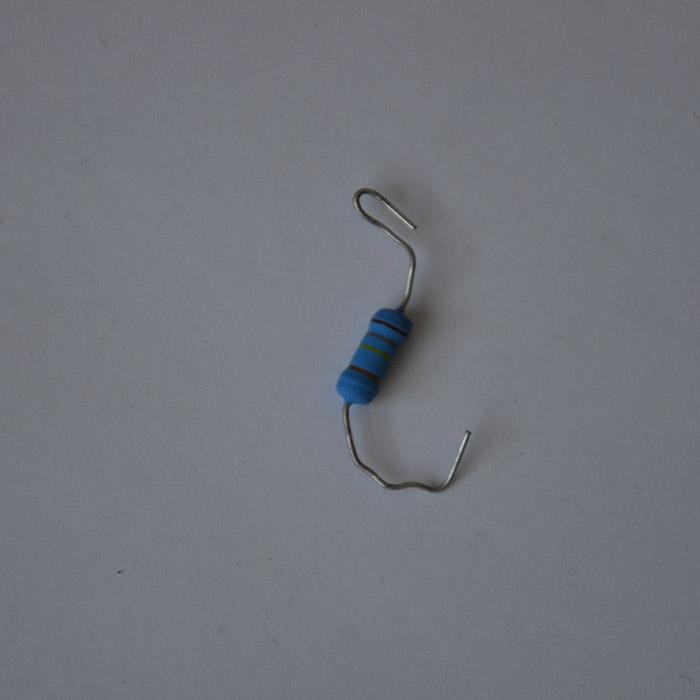resistor: (335, 305, 414, 407)
